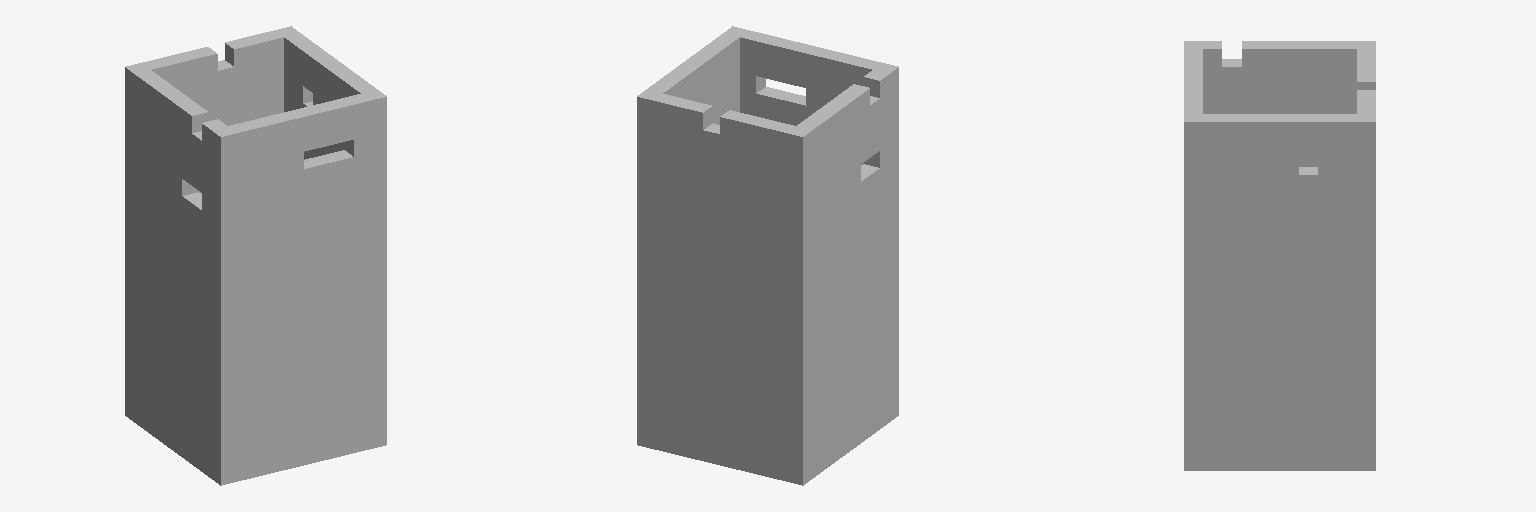
The model's file is Trap Tunnel.obj.
3 views of the same model, side by side, from view 1: azimuth 30°, elevation 25°; view 2: azimuth 150°, elevation 25°; view 3: azimuth 270°, elevation 25° (orthographic).
Bounding box in the file's own units: 10 × 20 × 10.